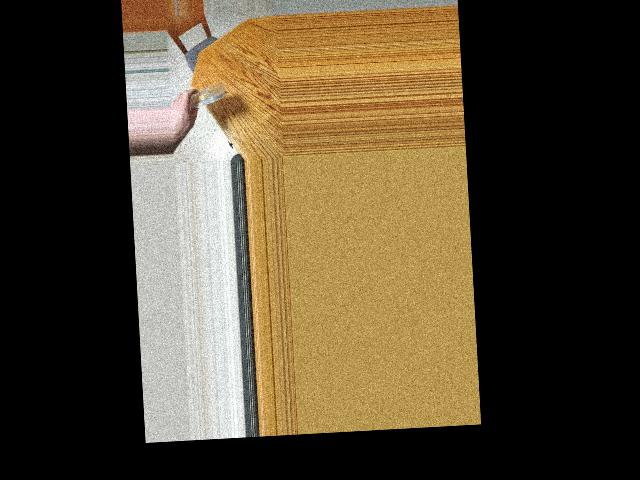cheese: (188, 80, 221, 110)
